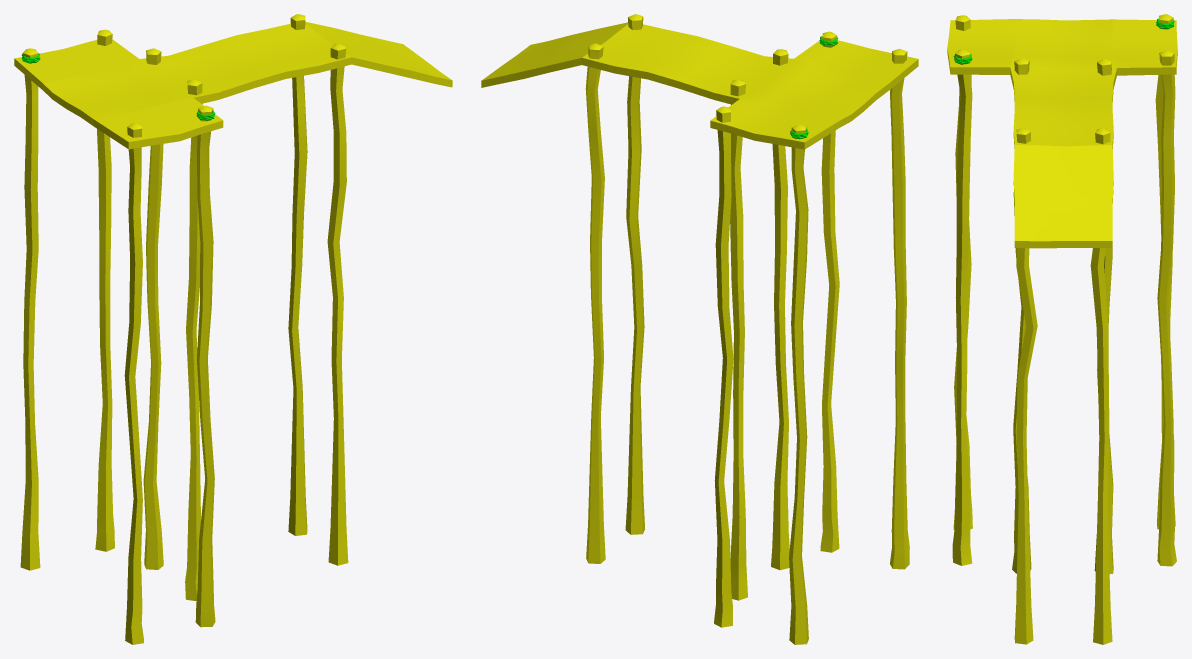
File: Pier.fbx
3 renders of one model, left to right at view 1: azimuth 30°, elevation 25°; view 2: azimuth 150°, elevation 25°; view 3: azimuth 270°, elevation 25°, orthographic.
Parts seen in each view (by area): view 1: pCube3, Leg1, Leg7, Leg6, Leg5, Leg2, Leg3, Leg8, Leg4; view 2: pCube3, Leg2, Leg6, Leg5, Leg8, Leg1, Leg3, Leg4, Leg7; view 3: pCube3, Leg8, Leg7, Leg2, Leg1, Leg6, Leg4, Leg3, Leg5.
Part boxes in pixels (box(x1,y1,x2,y2)): pCube3: box(14, 21, 452, 149); Leg1: box(327, 43, 348, 565); Leg7: box(195, 105, 215, 627); Leg6: box(20, 48, 40, 570); Leg5: box(124, 123, 143, 644); Leg2: box(288, 14, 307, 535); Leg3: box(143, 48, 163, 569); Leg8: box(95, 29, 114, 551); Leg4: box(185, 79, 202, 600); pCube3: box(481, 22, 918, 149); Leg2: box(585, 43, 605, 563); Leg6: box(789, 124, 808, 644); Leg5: box(890, 48, 909, 569); Leg8: box(714, 106, 733, 627); Leg1: box(625, 14, 644, 534); Leg3: box(730, 79, 747, 600); Leg4: box(771, 49, 789, 570); Leg7: box(820, 31, 839, 552); pCube3: box(947, 19, 1177, 248); Leg8: box(1157, 50, 1176, 566); Leg7: box(952, 49, 972, 565); Leg2: box(1090, 128, 1112, 644); Leg1: box(1014, 128, 1037, 644); Leg6: box(1155, 14, 1175, 529); Leg4: box(1012, 58, 1031, 573); Leg3: box(1094, 58, 1113, 573); Leg5: box(953, 15, 972, 529).
Bounding box in the file's own units: 2841 × 3896 × 1587.
